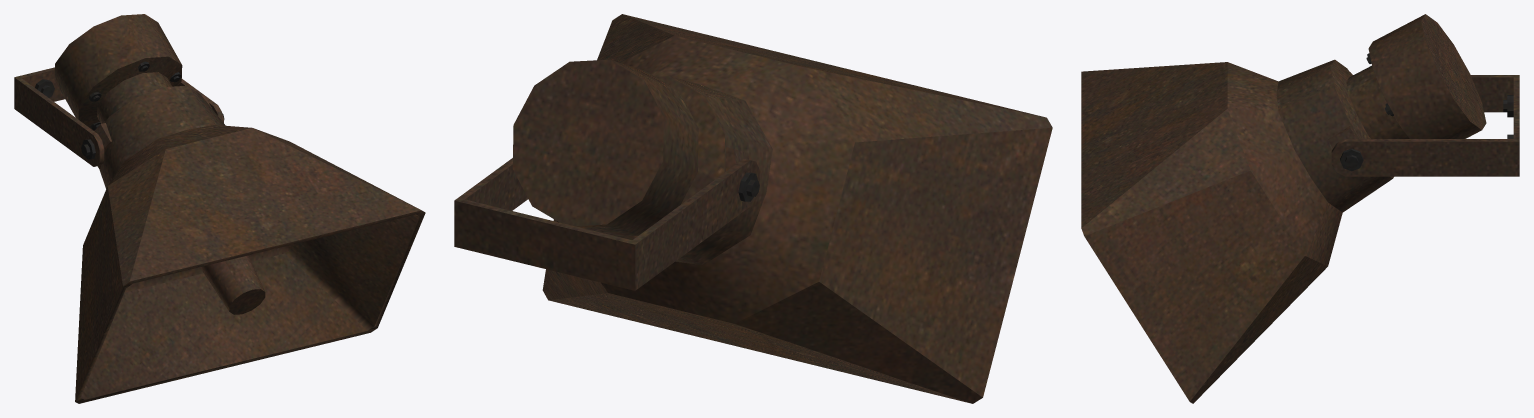
The model's file is speaker_mx_1_2.obj.
3 views of the same model, side by side, from view 1: azimuth 30°, elevation 25°; view 2: azimuth 150°, elevation 25°; view 3: azimuth 270°, elevation 25° (orthographic). The views are drawn at different scales.
Visible parts, largest first — view 1: speaker_mx_1_2; view 2: speaker_mx_1_2; view 3: speaker_mx_1_2.
Boxes of the visible parts, bbox=[...] form: speaker_mx_1_2: bbox=[14, 14, 425, 403]; speaker_mx_1_2: bbox=[454, 14, 1052, 403]; speaker_mx_1_2: bbox=[1081, 14, 1519, 403].
Size of the model in its own units: 0.4947 by 0.4325 by 0.564.
